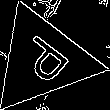P_SE: (10, 30, 75, 90)
